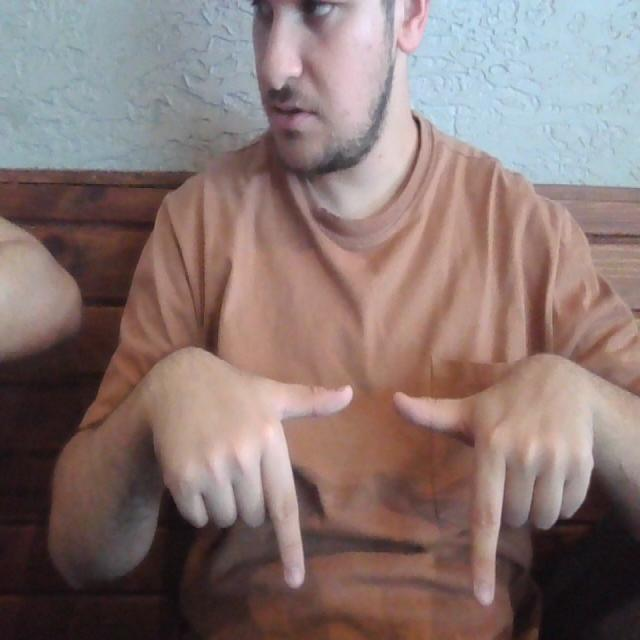Nerede: (244, 367, 521, 609)
